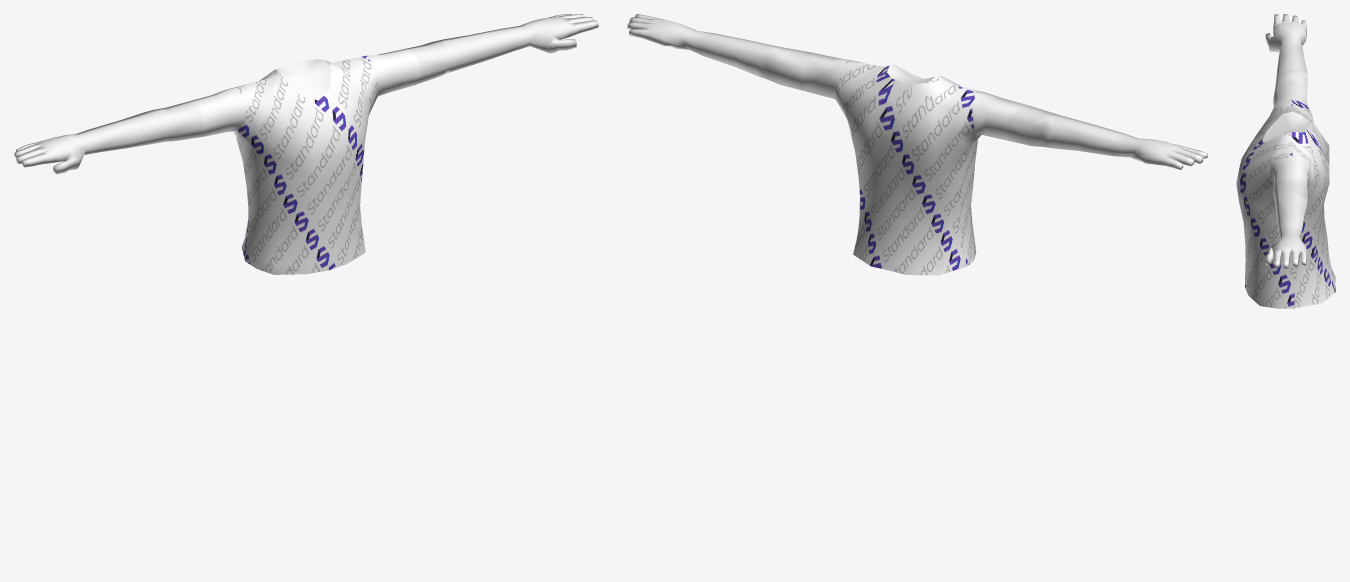
File: man2.gltf
3 views of the same model, side by side, from view 1: azimuth 30°, elevation 25°; view 2: azimuth 150°, elevation 25°; view 3: azimuth 270°, elevation 25° (orthographic). The views are drawn at different scales.
Visible parts, largest first — view 1: M_uBody_BaseMesh; view 2: M_uBody_BaseMesh; view 3: M_uBody_BaseMesh.
Part boxes in pixels (x1,y1,x2,y2): M_uBody_BaseMesh: (14, 14, 598, 274); M_uBody_BaseMesh: (627, 14, 1207, 275); M_uBody_BaseMesh: (1236, 14, 1335, 308).
Size of the model in its own units: 183 by 152 by 30.77.
Materials: 4 (3 with a texture image).
